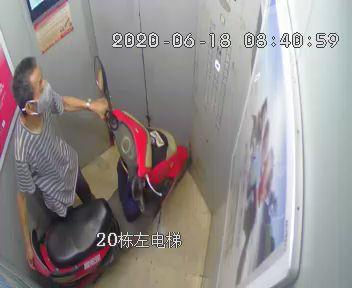Electric-bicycle: (29, 54, 192, 282)
